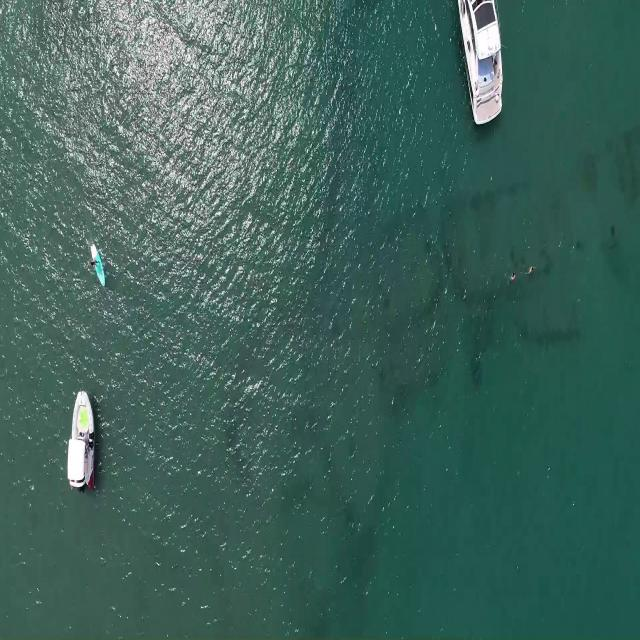boat: (456, 0, 506, 126), (65, 380, 97, 498)
person: (525, 264, 539, 278), (88, 255, 100, 270), (510, 271, 518, 281)
surfboard: (89, 240, 105, 291)
